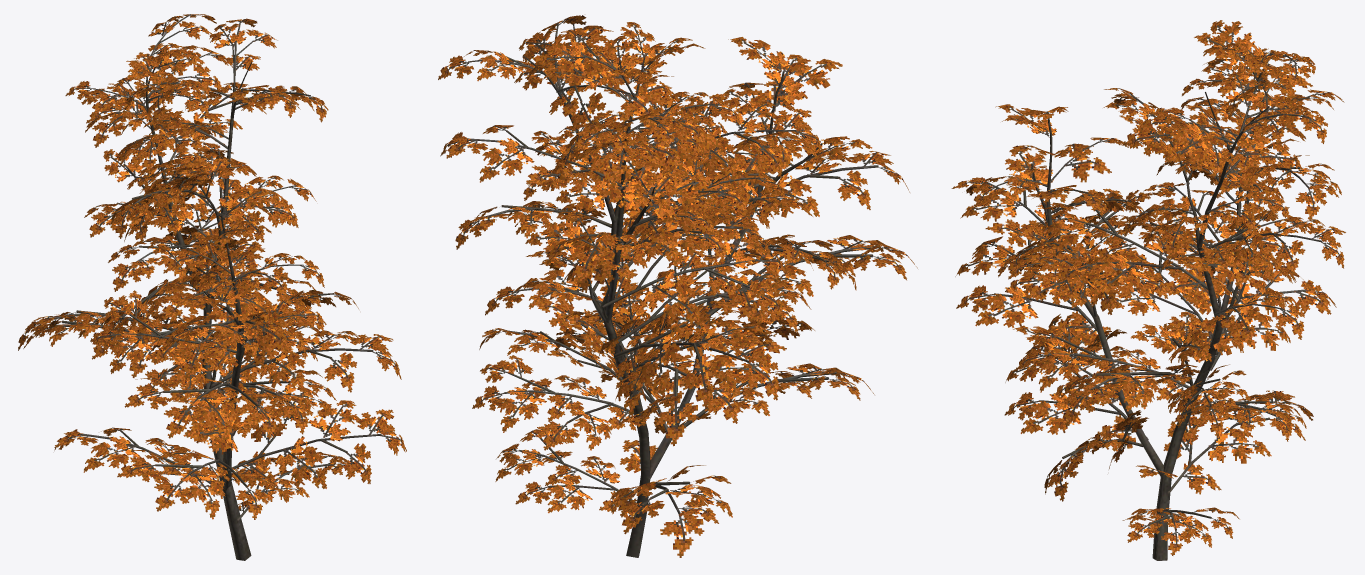
Rendered from Bush2-5.fbx.
The picture shows the model from 3 angles, left to right: view 1: azimuth 30°, elevation 25°; view 2: azimuth 150°, elevation 25°; view 3: azimuth 270°, elevation 25°; orthographic projection. The views are drawn at different scales.
Parts seen in each view (by area): view 1: Bush2-5_LOD0; view 2: Bush2-5_LOD0; view 3: Bush2-5_LOD0.
Boxes of the visible parts, box(x1,y1,x2,y2) form: Bush2-5_LOD0: box(18, 14, 406, 560); Bush2-5_LOD0: box(438, 15, 917, 557); Bush2-5_LOD0: box(951, 20, 1345, 560).
Size of what is drawn, in the model's own units: 1.77 by 1.98 by 2.77.
